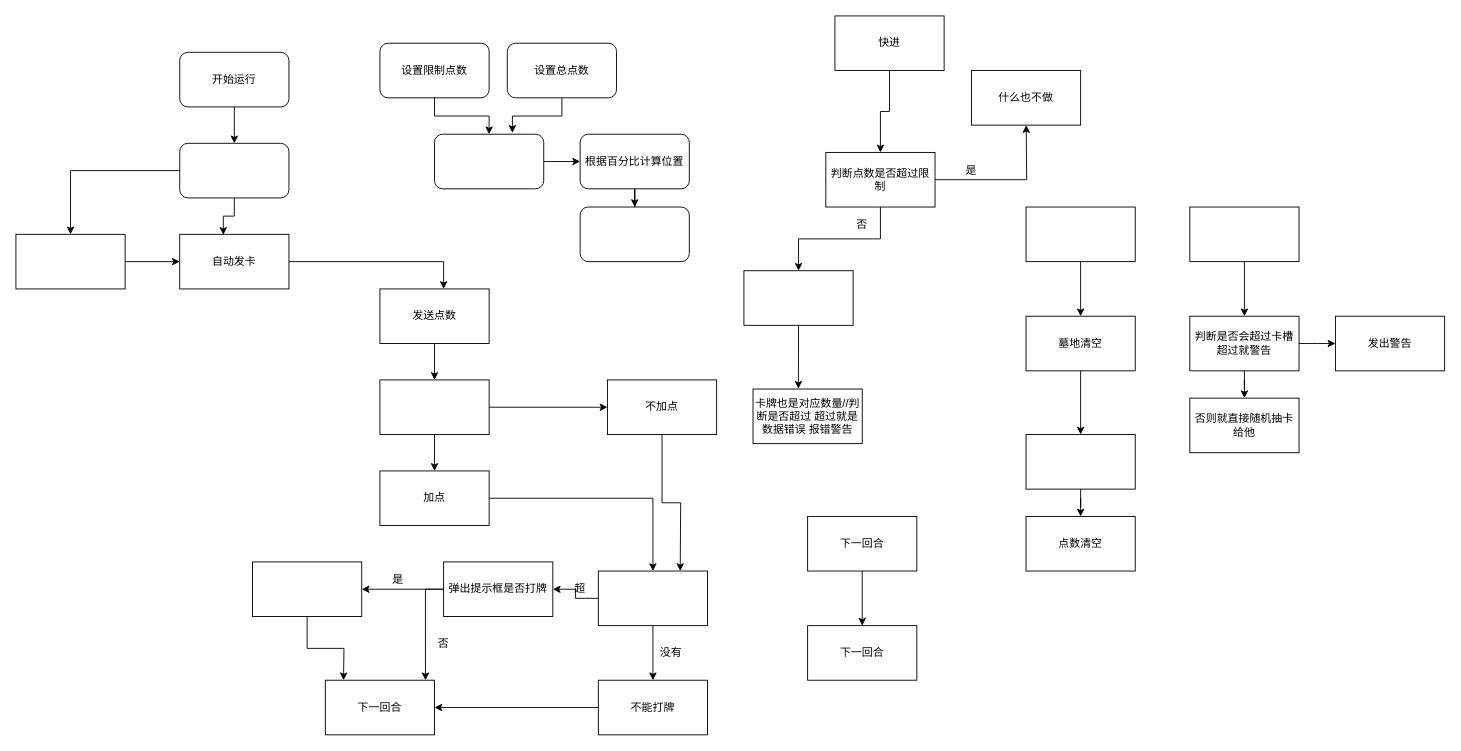
Image size: 1461x751. Some labels were removed from this diagram. The centre of each missing label's shape, as x and y in pixels:
减去消耗点 把牌扔进墓地: (307,589)
判断是否卡槽数超过: (234,170)
判断是否超过限制点: (652,598)
卡槽清空: (1080,461)
发出警告，需要丢卡: (70,261)
手动抽卡: (1244,234)
点数是否超过最大: (434,407)
计算百分比: (489,161)
设置位置: (634,234)
设置点数超过限制点: (798,297)
重置: (1080,234)
